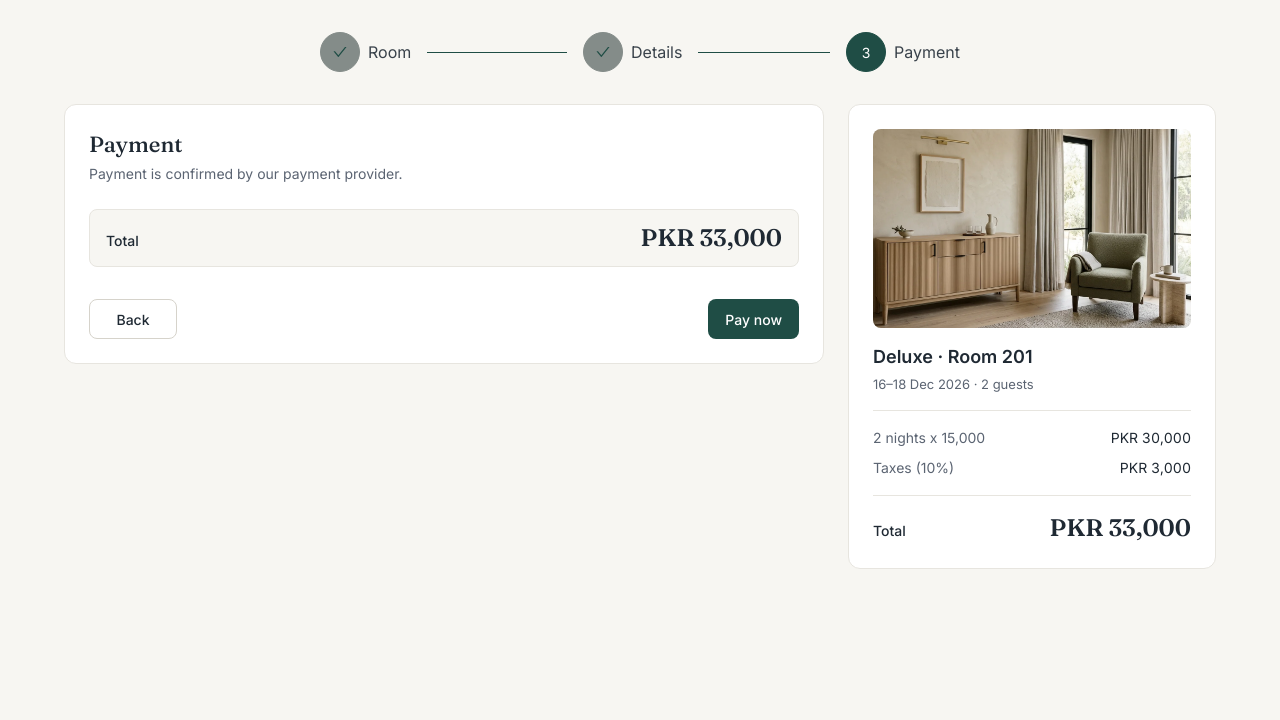
Scenario: BookingFlowView › supports dev simulate paid/failed buttons and shows 60s waiting alert when confirmation delays
Step 1. Click the button "Pay now" → point(754, 319), box [708,299,799,339]
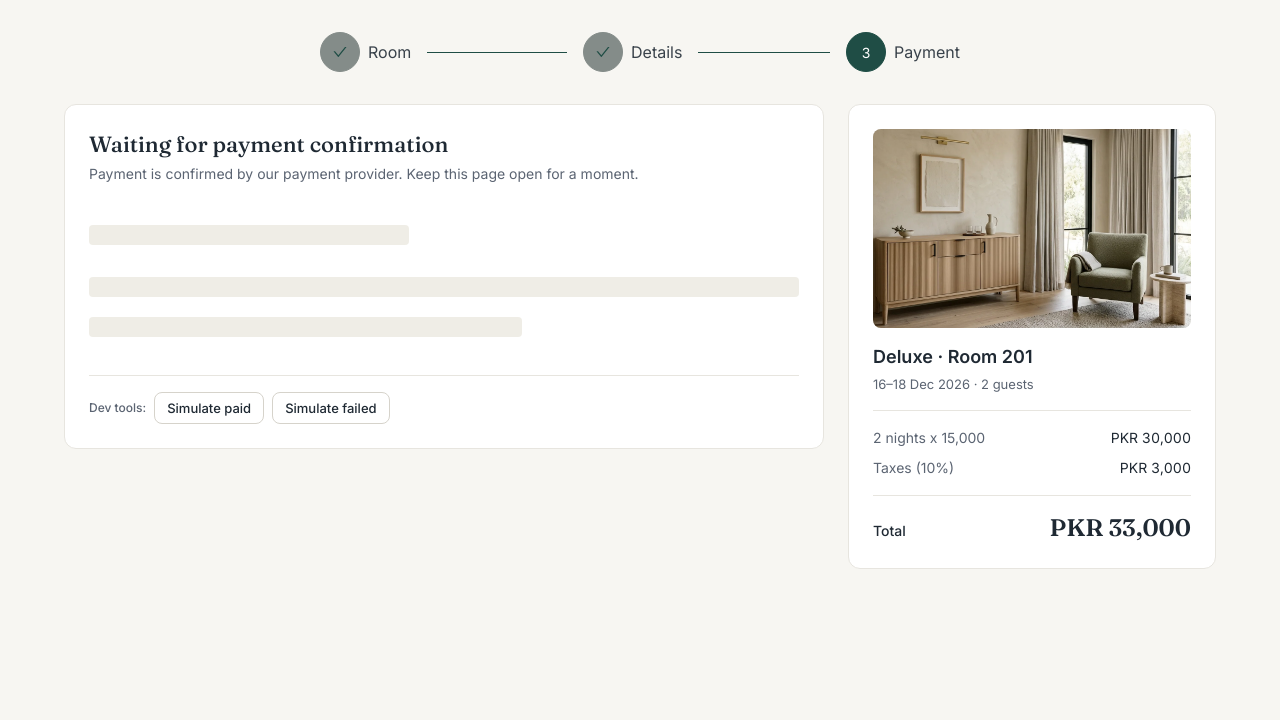
Result: the button "Simulate failed" is shown
Step 2. Click the button "Simulate failed" → point(331, 408), box [272,392,390,424]
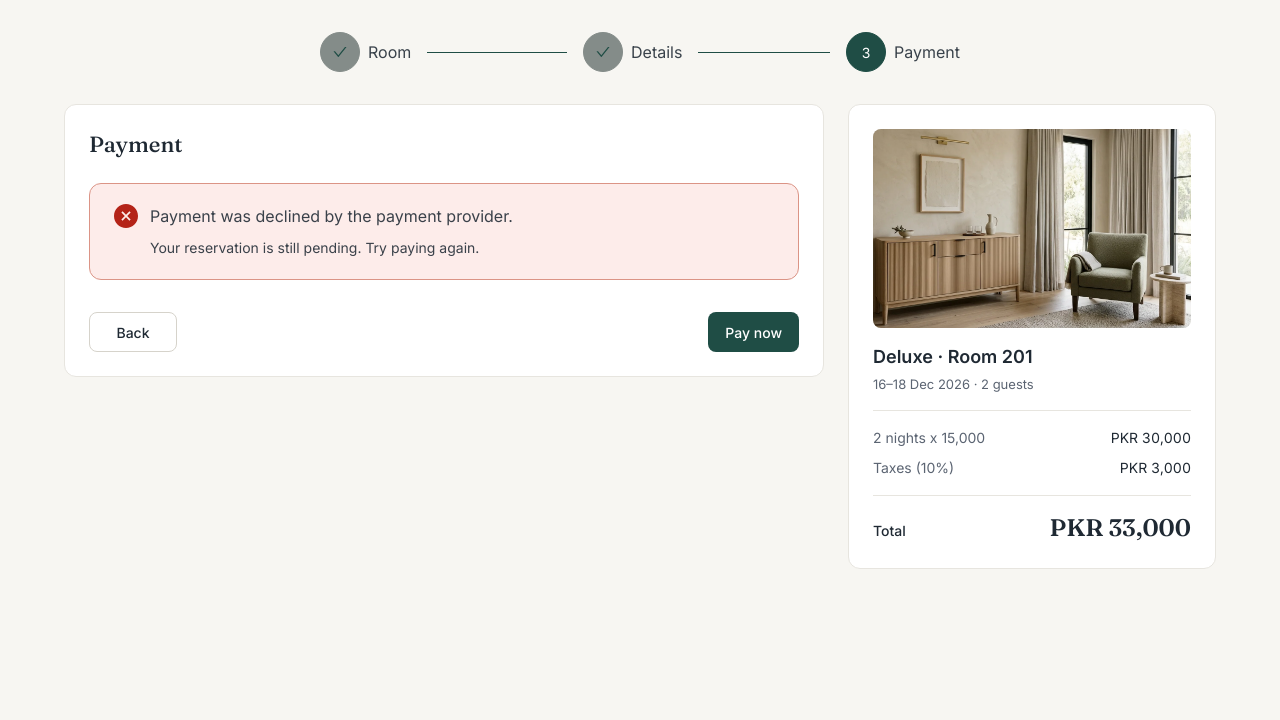
Result: the text "Payment was declined by the payment provider." is shown at [150,206,513,226]
Step 3. Click the button "Pay now" → point(754, 332), box [708,312,799,352]
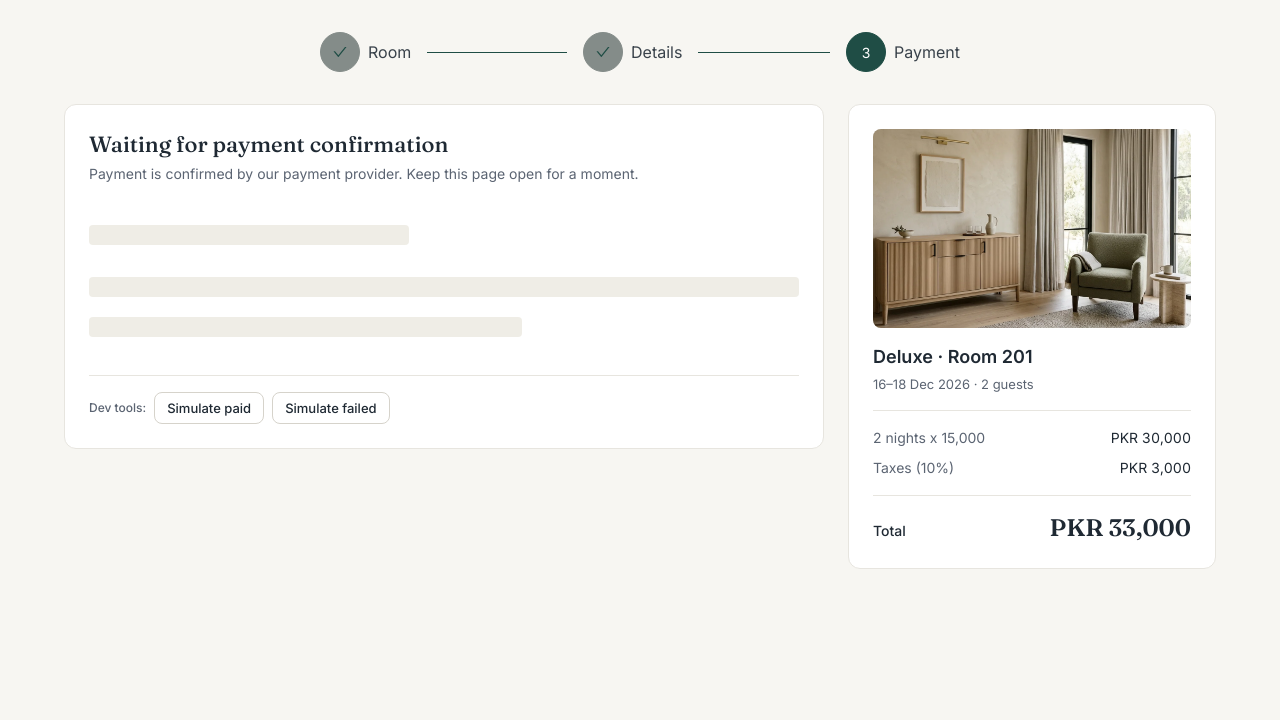
Result: the button "Simulate paid" is shown
Step 4. Click the button "Simulate paid" → point(209, 408), box [154,392,264,424]
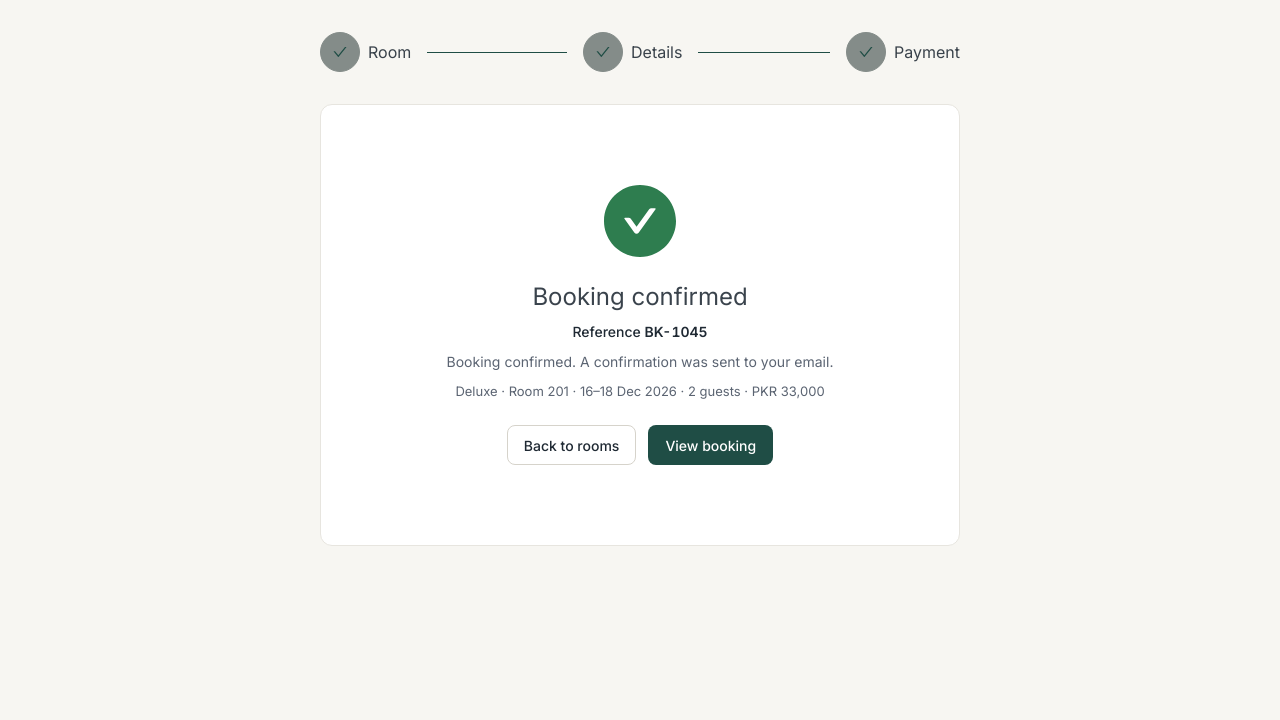
Result: the element with test id "booking-result-card" is shown at [320,104,960,546]
